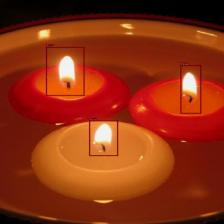fire: (46, 46, 84, 96), (180, 65, 202, 113), (89, 120, 118, 156)
